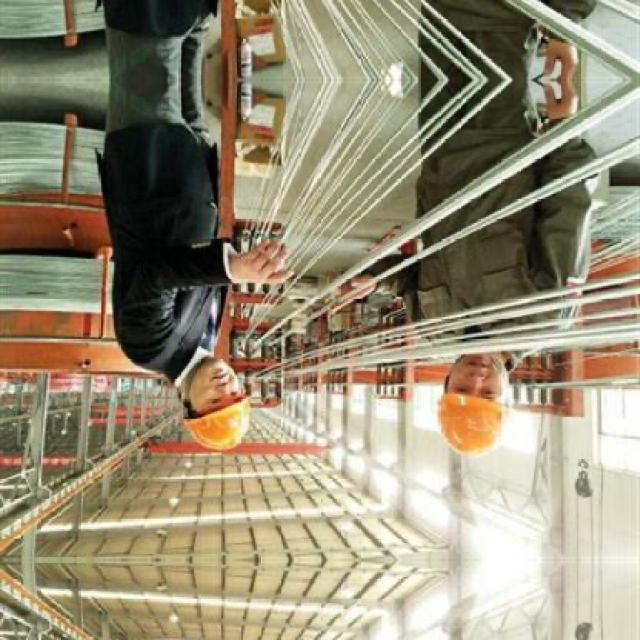con casco: (410, 266, 530, 520), (149, 282, 247, 490)
